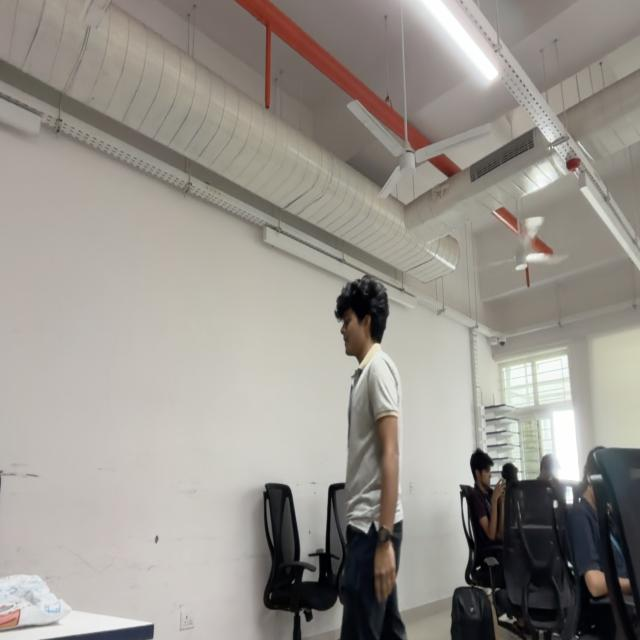kshitij: (333, 275, 390, 365)
